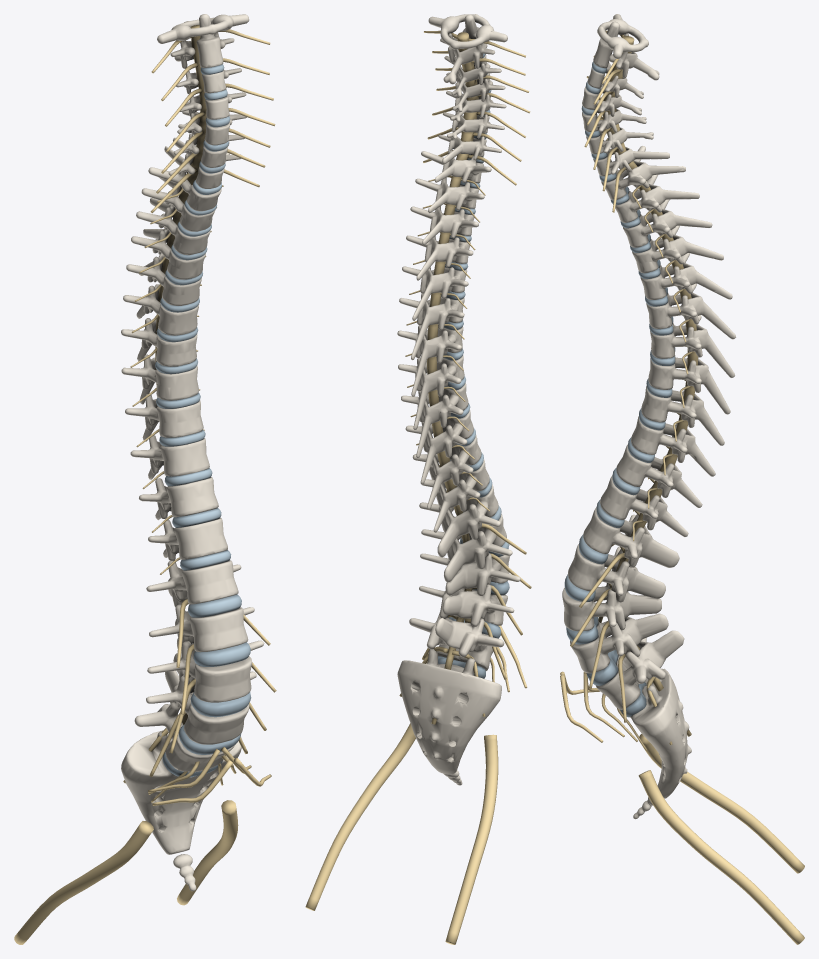
The model's file is spine.glb.
3 renders of one model, left to right at view 1: azimuth 30°, elevation 25°; view 2: azimuth 150°, elevation 25°; view 3: azimuth 270°, elevation 25°, orthographic. The views are drawn at different scales.
Visible parts, largest first — view 1: Sacrum, L3, L1, L2, sciatic_L, L4, T12, T11, T10, L5, T9, T8 (+21 smaller); view 2: Sacrum, sciatic_L, SpinalCord, L5, sciatic_R, L4, L1, L2, L3, T11, T10, T12 (+16 smaller); view 3: Sacrum, sciatic_R, L5, L1, L2, L4, L3, sciatic_L, T12, T11, T10, SpinalCord (+16 smaller).
Boxes of the visible parts, box(x1,y1,x2,y2) form: Sacrum: box(121, 730, 241, 854); L3: box(147, 638, 264, 702); L1: box(146, 560, 241, 607); L2: box(149, 604, 254, 652); sciatic_L: box(14, 821, 153, 944); L4: box(146, 653, 256, 744); T12: box(148, 518, 227, 560); T11: box(139, 477, 218, 520); T10: box(130, 435, 209, 479); L5: box(134, 670, 235, 772); T9: box(125, 393, 203, 441); T8: box(121, 354, 198, 404); Sacrum: box(397, 649, 501, 774); sciatic_L: box(445, 734, 498, 944); SpinalCord: box(427, 32, 478, 724); L5: box(409, 612, 504, 670); sciatic_R: box(305, 723, 415, 910); L4: box(419, 584, 514, 626); L1: box(419, 484, 500, 557); L2: box(421, 513, 512, 582); L3: box(420, 553, 520, 595); T11: box(412, 435, 481, 509); T10: box(405, 409, 473, 484); T12: box(420, 459, 489, 532); Sacrum: box(630, 668, 691, 798); sciatic_R: box(638, 770, 804, 944); L5: box(595, 630, 684, 709); L1: box(583, 507, 679, 567); L2: box(568, 544, 665, 602); L4: box(570, 613, 668, 673); L3: box(562, 583, 661, 631); sciatic_L: box(639, 734, 804, 873); T12: box(600, 475, 688, 537); T11: box(616, 444, 702, 507); T10: box(631, 416, 715, 476); SpinalCord: box(603, 36, 697, 736).
Size of the model in its own units: 0.1449 by 0.7858 by 0.1969.
